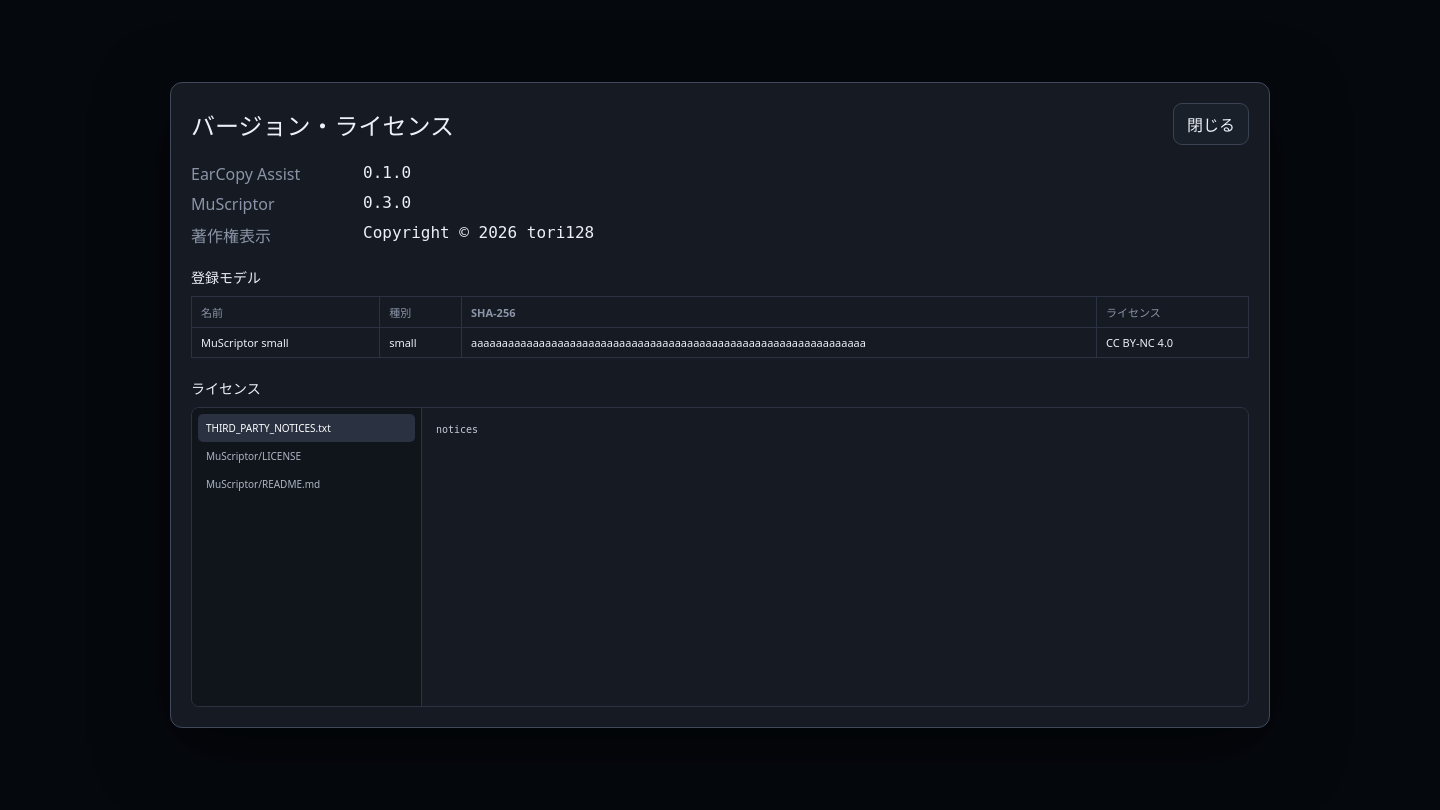
Test: AboutDialog › shows versions, registered model hashes and bundled licenses
Expected: the text "0.1.0" is shown, [363,163,411,182]
Expected: the text "0.3.0" is shown, [363,193,411,212]
Click the button "MuScriptor/LICENSE" at (306, 456), box [198,442,415,470]
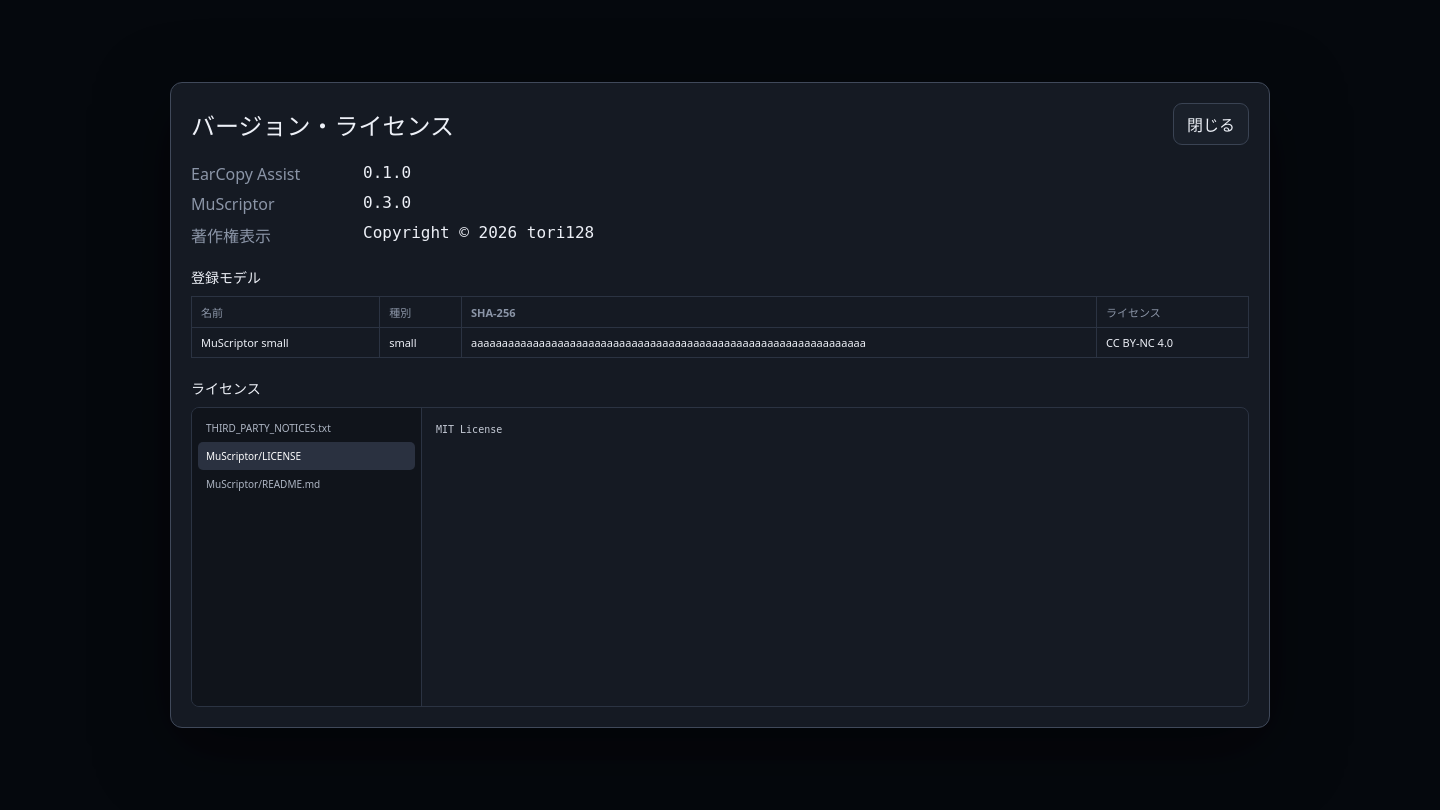
Expected: the text "MIT License" is shown, [436,424,502,435]
Click the button "MuScriptor/README.md" at (306, 484), box [198,470,415,498]
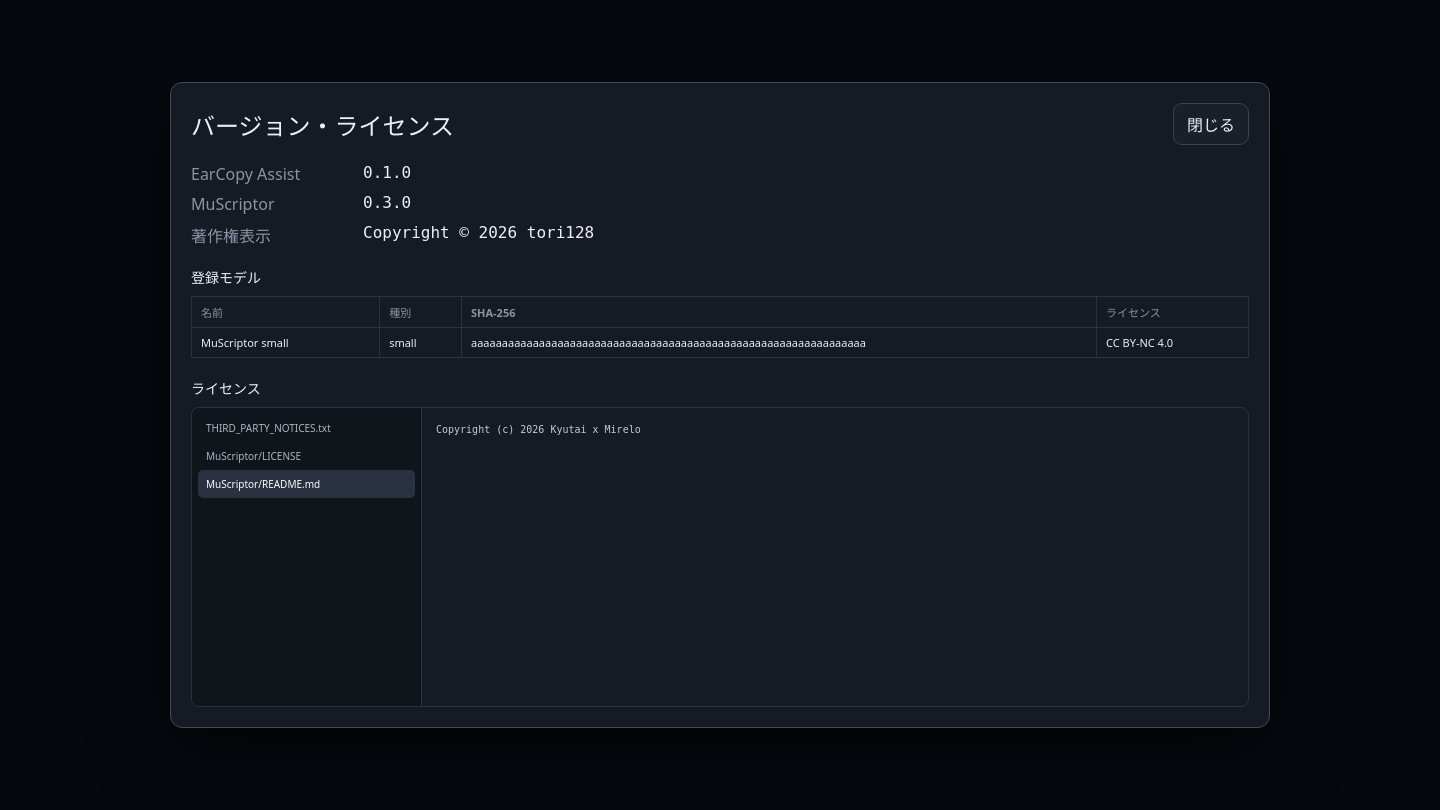
Expected: the text "Copyright (c) 2026 Kyutai x Mirelo" is shown, [436,424,641,435]
